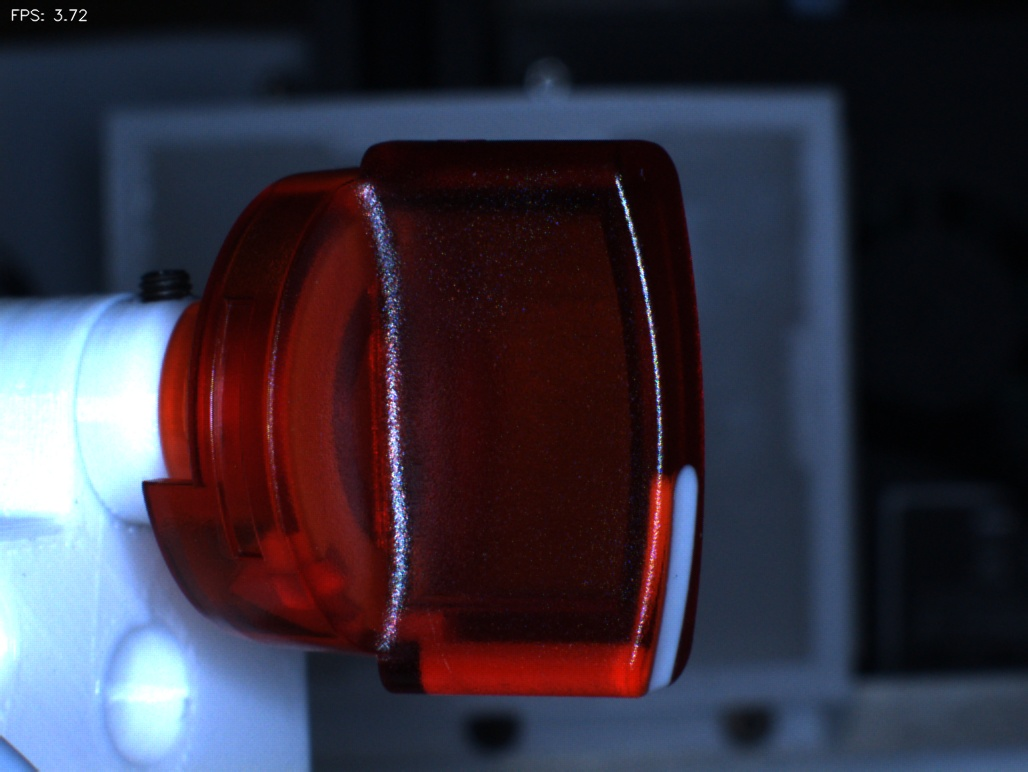PointNoir: (650, 552, 707, 611)
